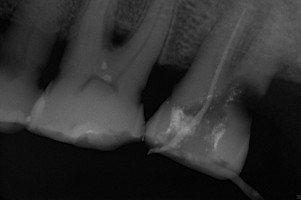Endo-Periodontal Lesion: (111, 23, 133, 49)
